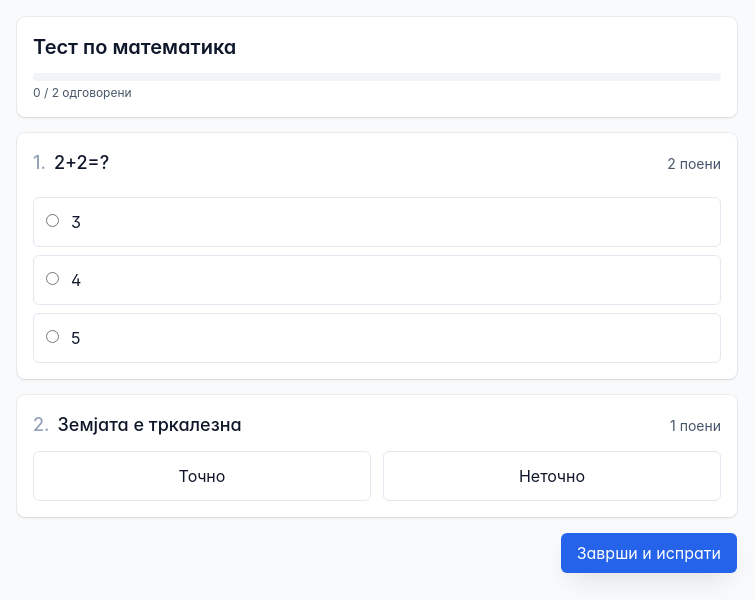
Scenario: StudentTake › напредокот се ажурира на одговор
Expected: the text "0 / 2 одговорени" is shown, [33,85,132,100]
What coordinates should you click on to do the following:
click the radio button labelled "4"
I would click on:
 (52, 278)
Its box is [46,272,59,285].
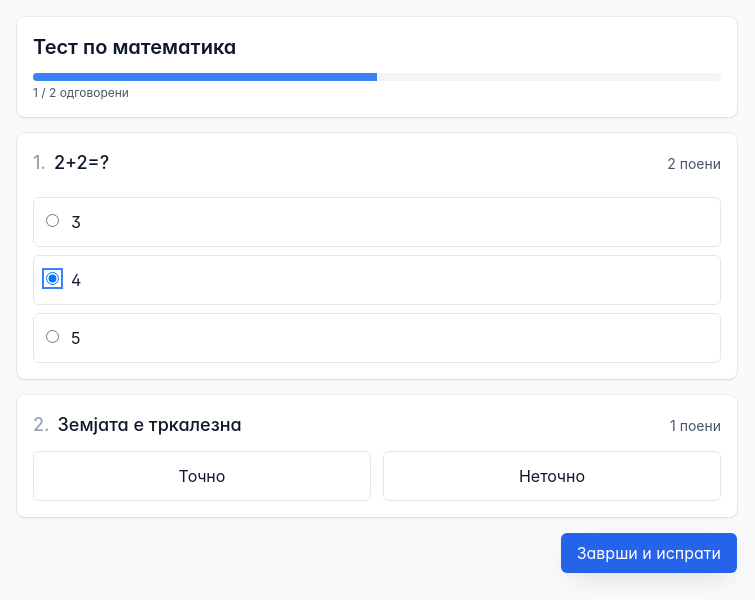
Result: the text "1 / 2 одговорени" is shown at [33,85,129,100]
